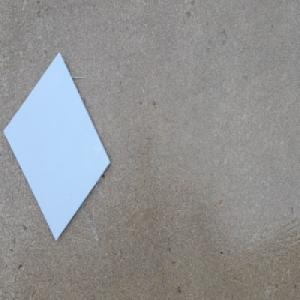PaintChip: (3, 49, 110, 243)
